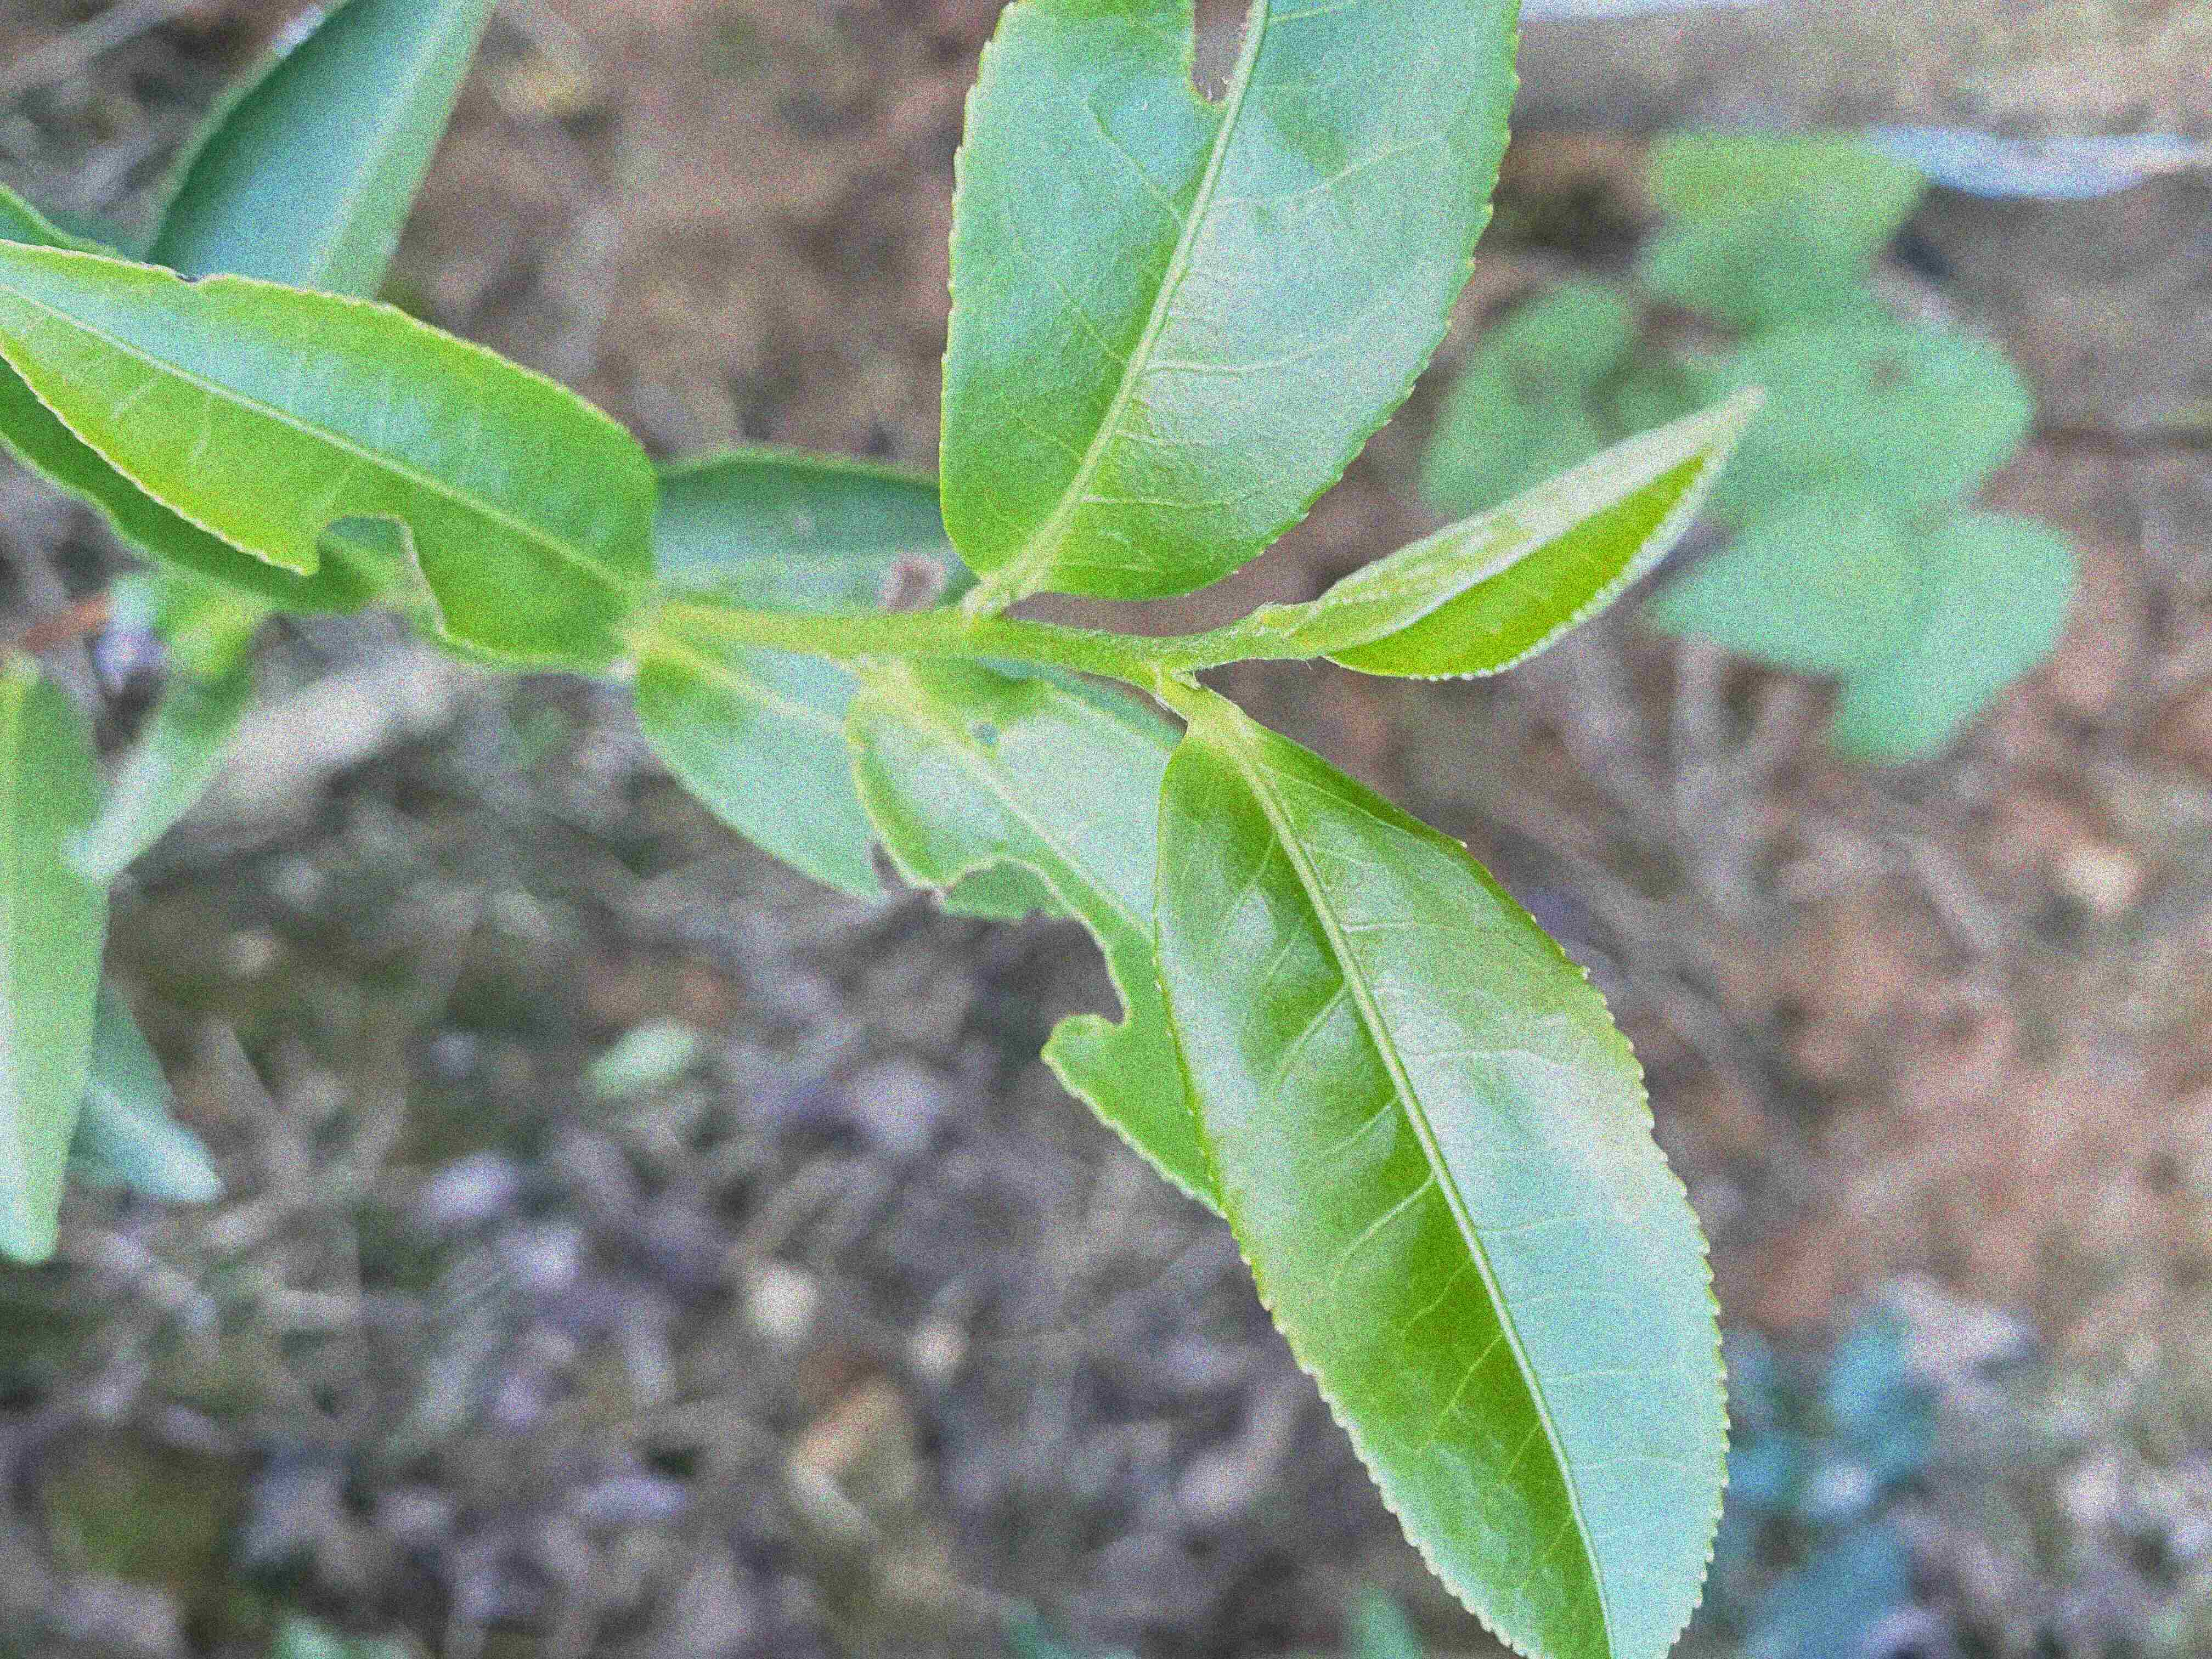chihuo_high: (3, 237, 658, 660), (846, 660, 1228, 1218)
chihuo_low: (939, 3, 1521, 603)
healthy: (1153, 704, 1733, 1656)
